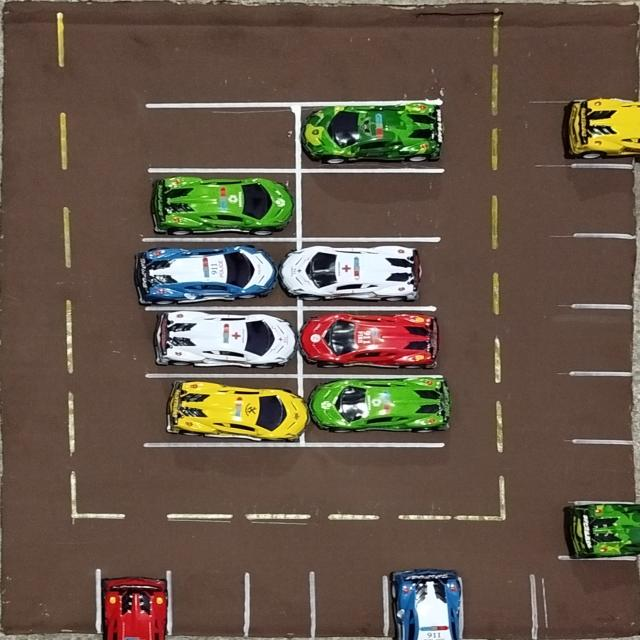libre: (142, 105, 300, 169), (300, 171, 445, 237), (0, 563, 97, 640), (170, 565, 247, 640), (313, 566, 390, 640), (466, 563, 536, 640), (569, 373, 640, 440), (246, 568, 312, 640), (572, 166, 640, 234), (575, 305, 640, 375), (575, 234, 640, 304), (572, 439, 640, 501)
no_estacionarse: (538, 563, 640, 640)
ocupado: (145, 374, 303, 446), (144, 168, 299, 240), (142, 240, 301, 308), (300, 376, 452, 446), (144, 308, 300, 376), (296, 100, 446, 170), (300, 309, 442, 376), (300, 238, 437, 306), (387, 568, 464, 640), (562, 97, 640, 165), (100, 570, 171, 640), (561, 500, 640, 558)
